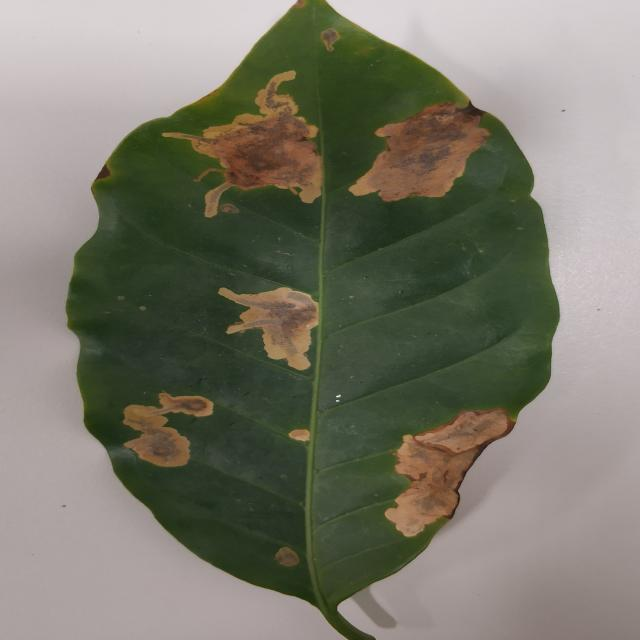Plaga-Minador: (64, 3, 560, 616)
